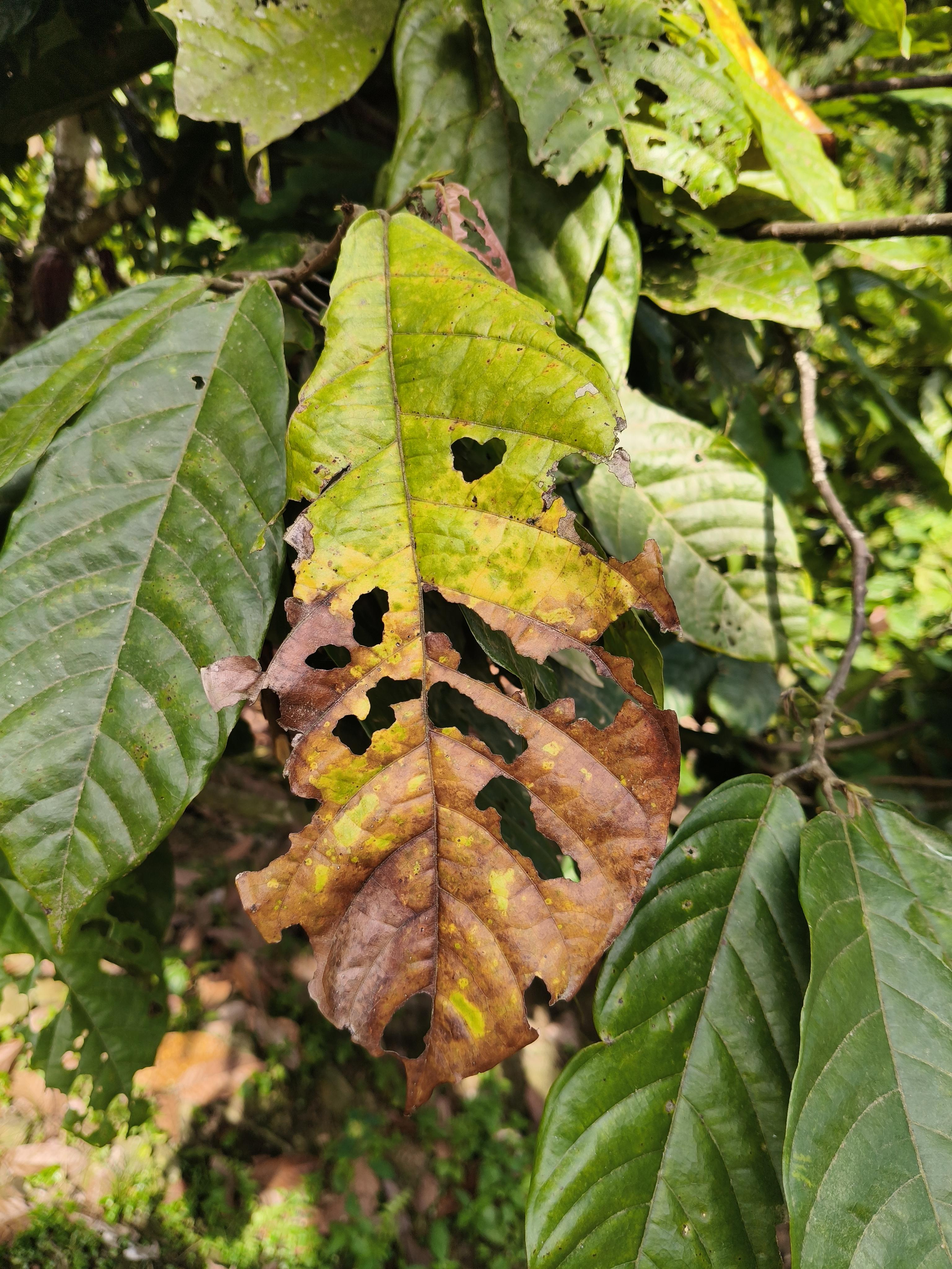deficiencia_potasio: (232, 201, 685, 1094)
